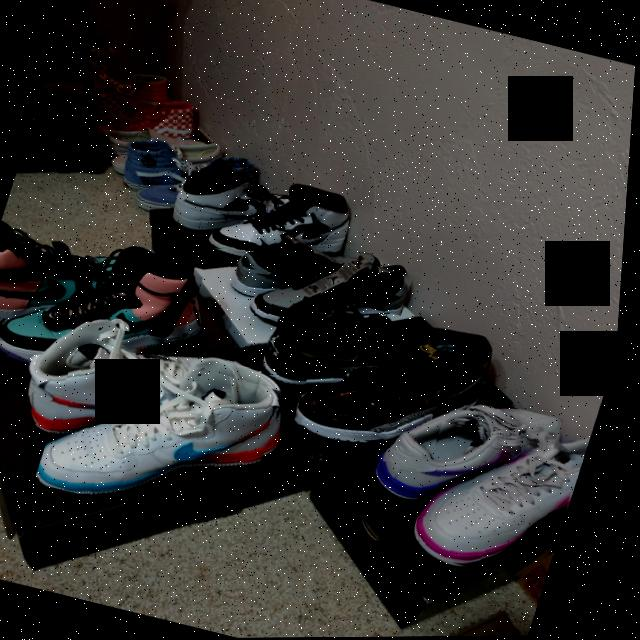shoe: (37, 332, 298, 536), (10, 309, 272, 473), (0, 225, 211, 395), (296, 298, 506, 466), (407, 421, 592, 589), (381, 380, 571, 501), (247, 232, 421, 349), (193, 164, 361, 278), (253, 288, 407, 401), (227, 212, 368, 310), (0, 214, 118, 327), (169, 160, 285, 243)
